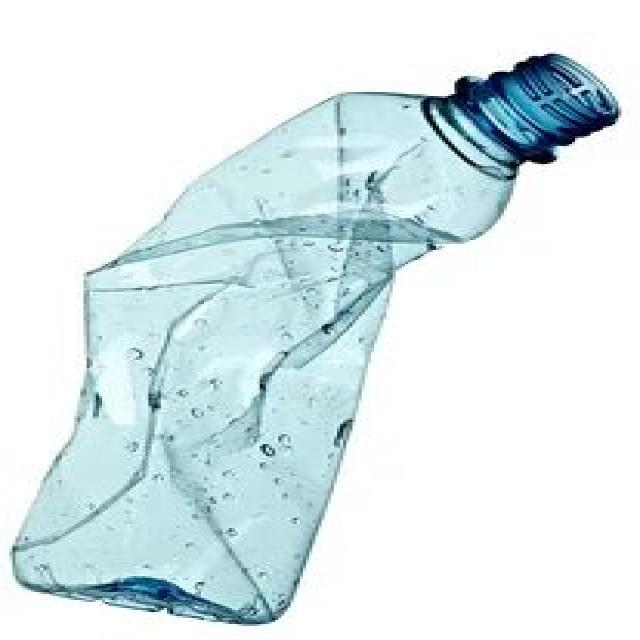blue: (11, 52, 618, 625)
